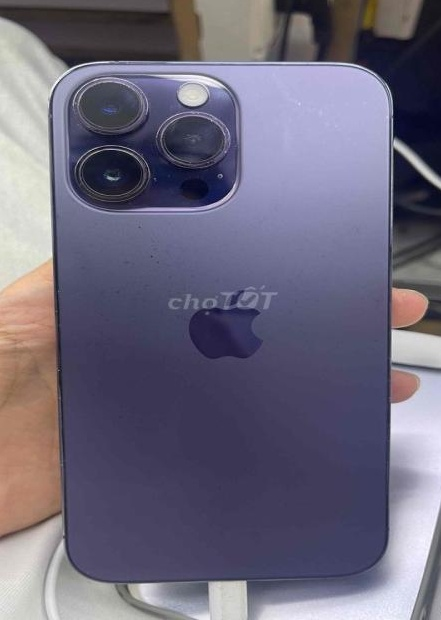scratch: (266, 69, 373, 147), (152, 106, 237, 172), (65, 141, 148, 202), (69, 77, 150, 137), (124, 223, 186, 301), (282, 269, 312, 328), (347, 219, 386, 260), (108, 283, 129, 309), (115, 408, 143, 423)
